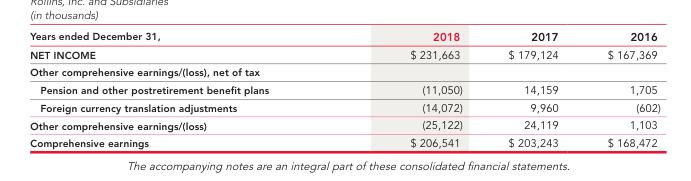table: (29, 28, 659, 149)
table column: (29, 28, 338, 149), (338, 28, 484, 149), (484, 28, 582, 149), (582, 28, 659, 149)
table column header: (29, 28, 659, 45)
table projected row header: (29, 63, 659, 81)
table row: (29, 45, 659, 63), (29, 63, 659, 81), (29, 98, 659, 116), (29, 116, 659, 134), (29, 28, 659, 45), (29, 81, 659, 98), (29, 134, 659, 149)
